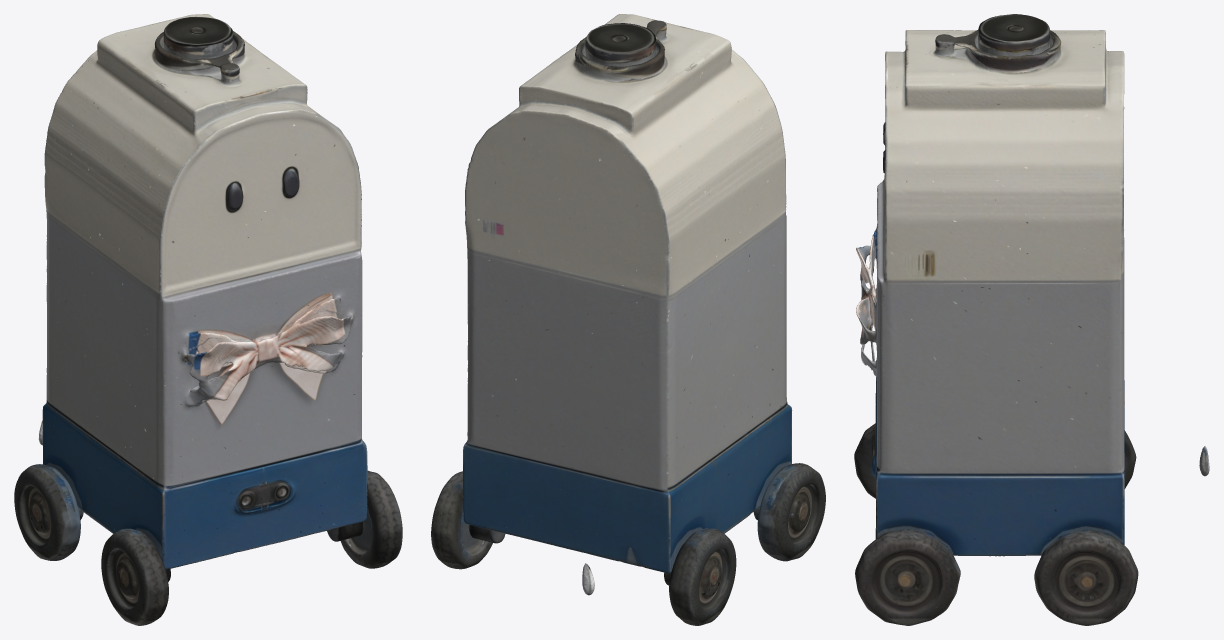
Rendered from carryporter.glb.
The picture shows the model from 3 angles, left to right: view 1: azimuth 30°, elevation 25°; view 2: azimuth 150°, elevation 25°; view 3: azimuth 270°, elevation 25°; orthographic projection. The views are drawn at different scales.
Bounding box in the file's own units: 1.04 × 2.01 × 1.2.
Materials: 1 (1 with a texture image).
